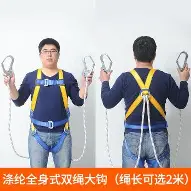safety belt: (119, 69, 178, 166), (31, 67, 72, 155)
